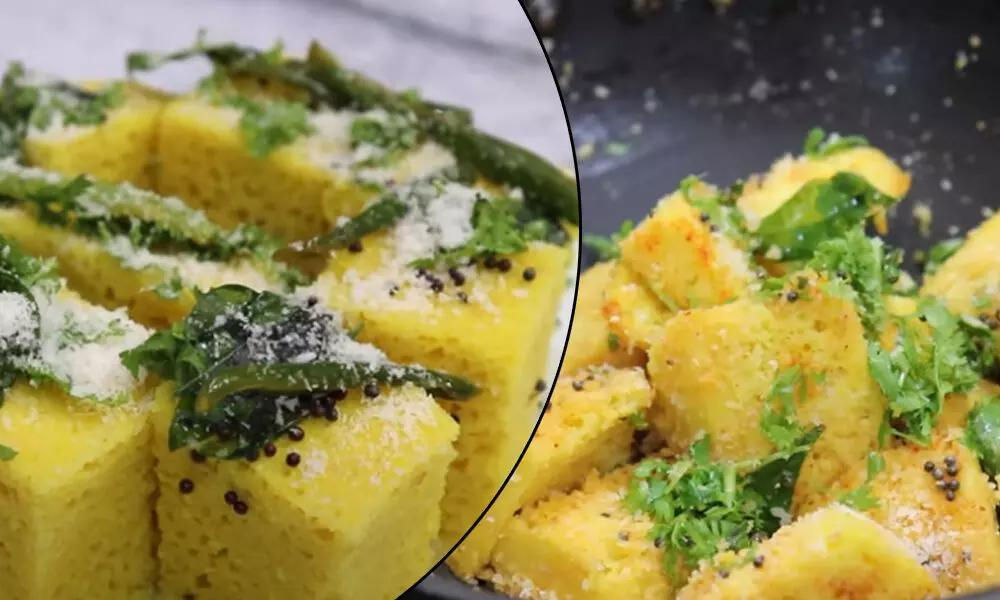dhokla: (15, 41, 995, 583)
